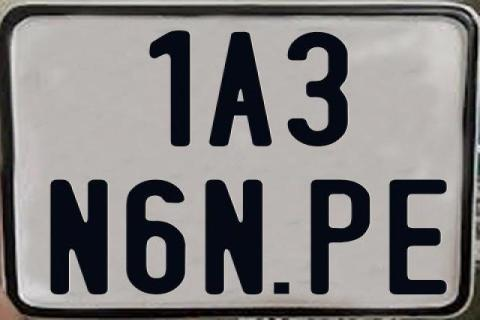0: (126, 180, 188, 300), (286, 30, 347, 148), (148, 31, 192, 149)
A: (209, 31, 278, 145)
E: (387, 177, 448, 293)
N: (206, 180, 269, 300), (48, 178, 106, 294)
P: (308, 178, 372, 296)
